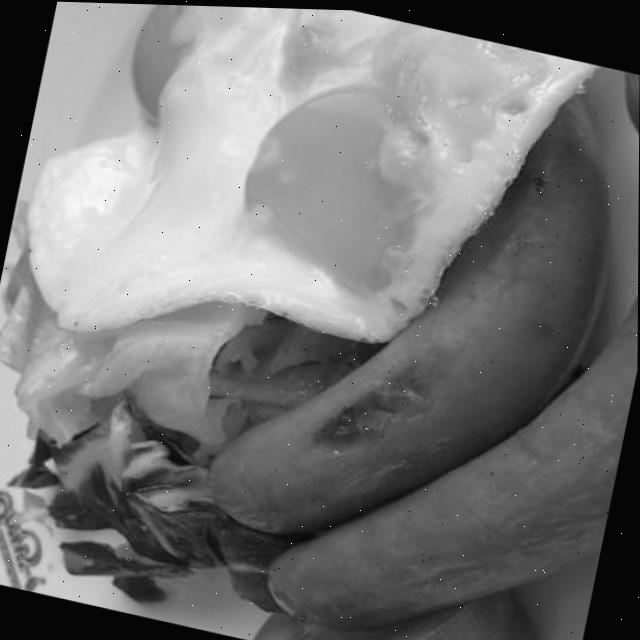鸡蛋料理: (27, 1, 585, 432)
